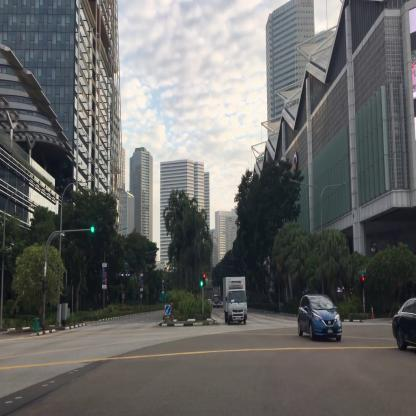green_traffic_light: (91, 226, 101, 232), (200, 274, 202, 286)
